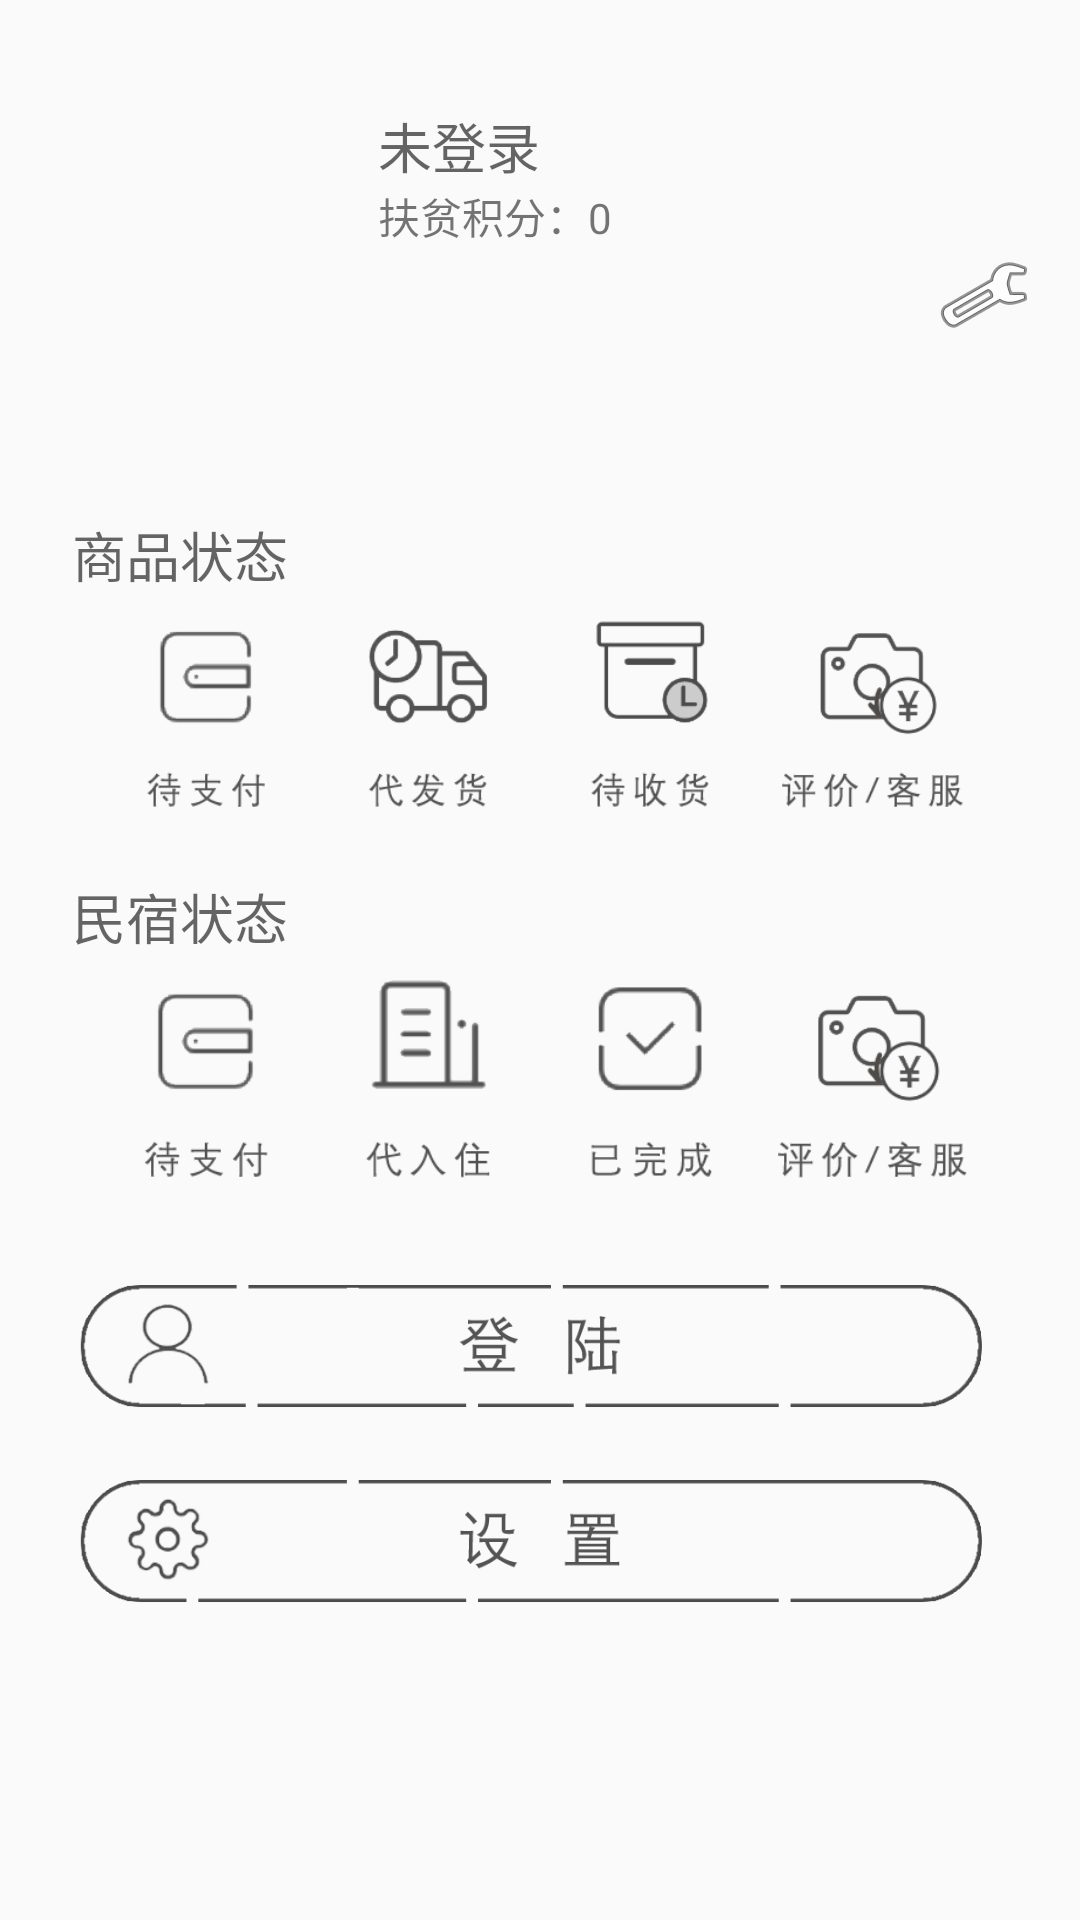

Named icons in this screenshot (1080 × 1920) and their centers, [x,y]:
manage: [984,295]
